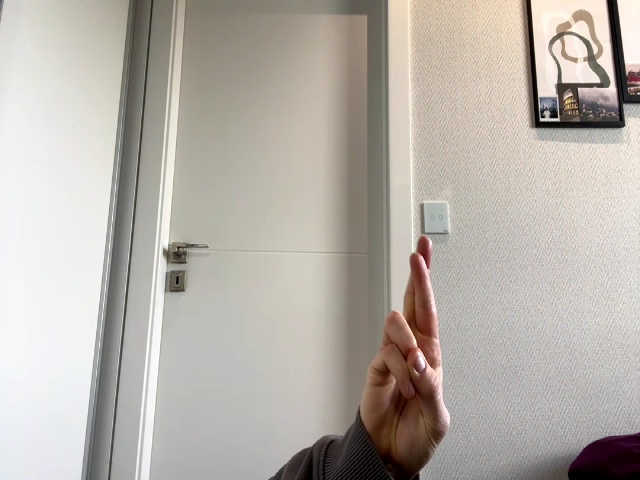R: (366, 235, 450, 449)
